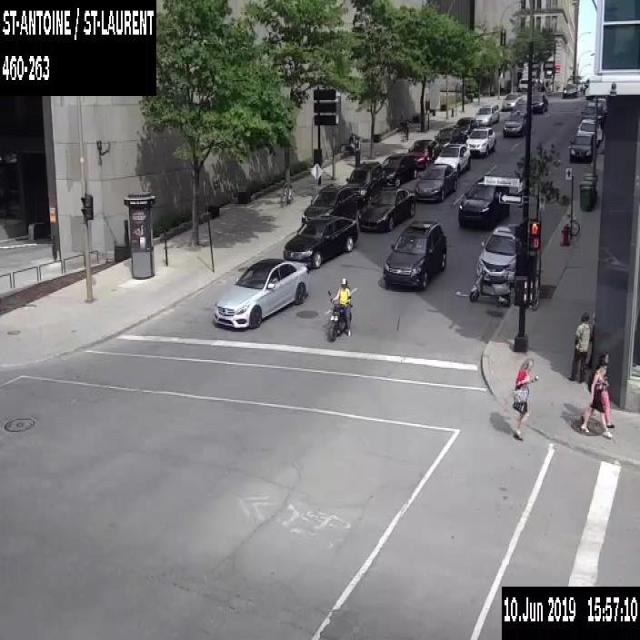construction: (309, 162, 322, 191)
pedestrian: (580, 351, 615, 427), (579, 360, 612, 438), (511, 356, 537, 440), (566, 311, 591, 381), (589, 310, 595, 363), (348, 134, 353, 155)
vehicle: (212, 257, 309, 328), (383, 220, 446, 288), (283, 212, 357, 267), (457, 175, 509, 227), (357, 185, 415, 231), (301, 182, 357, 224), (475, 224, 515, 278), (328, 275, 358, 341), (468, 266, 515, 307), (345, 160, 385, 204), (414, 163, 457, 201), (432, 142, 470, 175), (381, 152, 416, 187), (406, 138, 439, 168), (464, 126, 496, 156), (434, 125, 466, 151), (568, 132, 594, 162), (576, 118, 602, 144), (502, 109, 526, 136), (474, 104, 499, 125), (455, 116, 476, 139), (580, 101, 605, 120), (576, 113, 602, 130), (530, 92, 548, 112), (518, 77, 539, 92), (501, 93, 519, 109), (511, 96, 526, 111), (562, 82, 577, 97), (593, 97, 606, 112)
